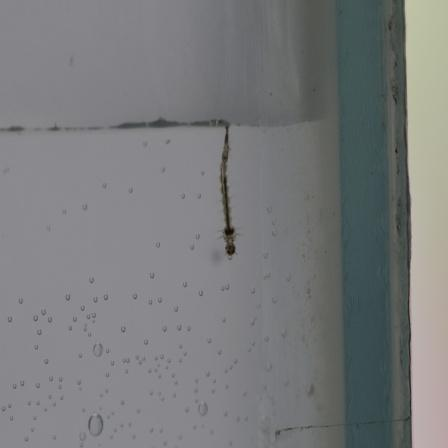Jentik-Nyamuk: (216, 122, 244, 264)
